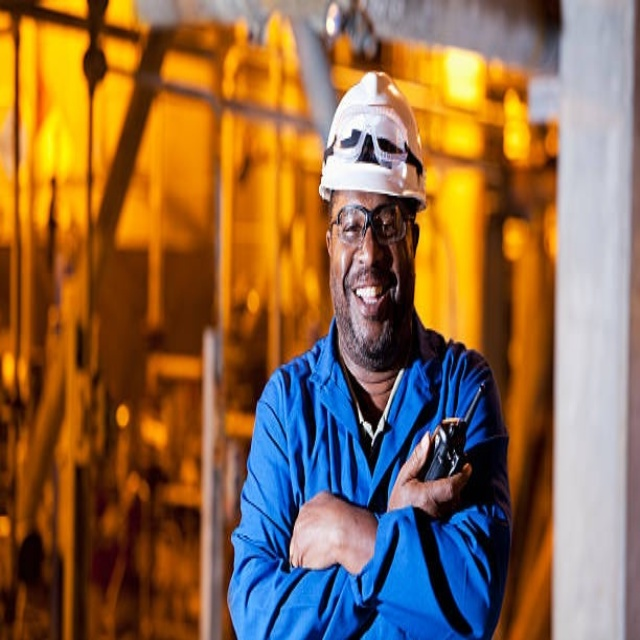Gafas: (328, 198, 412, 243)
Sin_guantes: (388, 426, 475, 520), (284, 486, 364, 572)
Sin_mascara: (345, 275, 395, 340)
